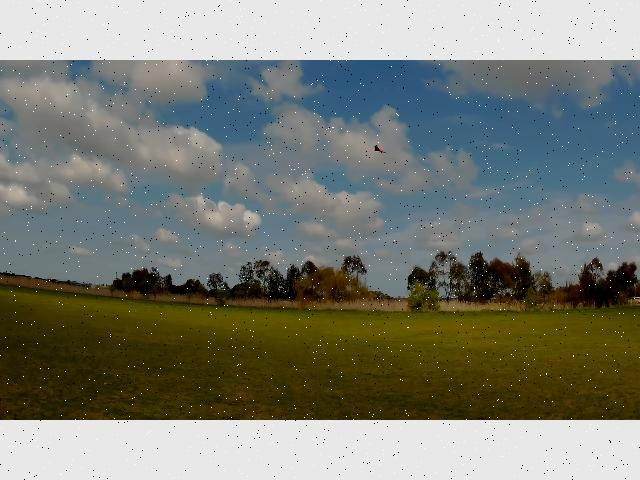Anti-Drone: (374, 146, 388, 154)
